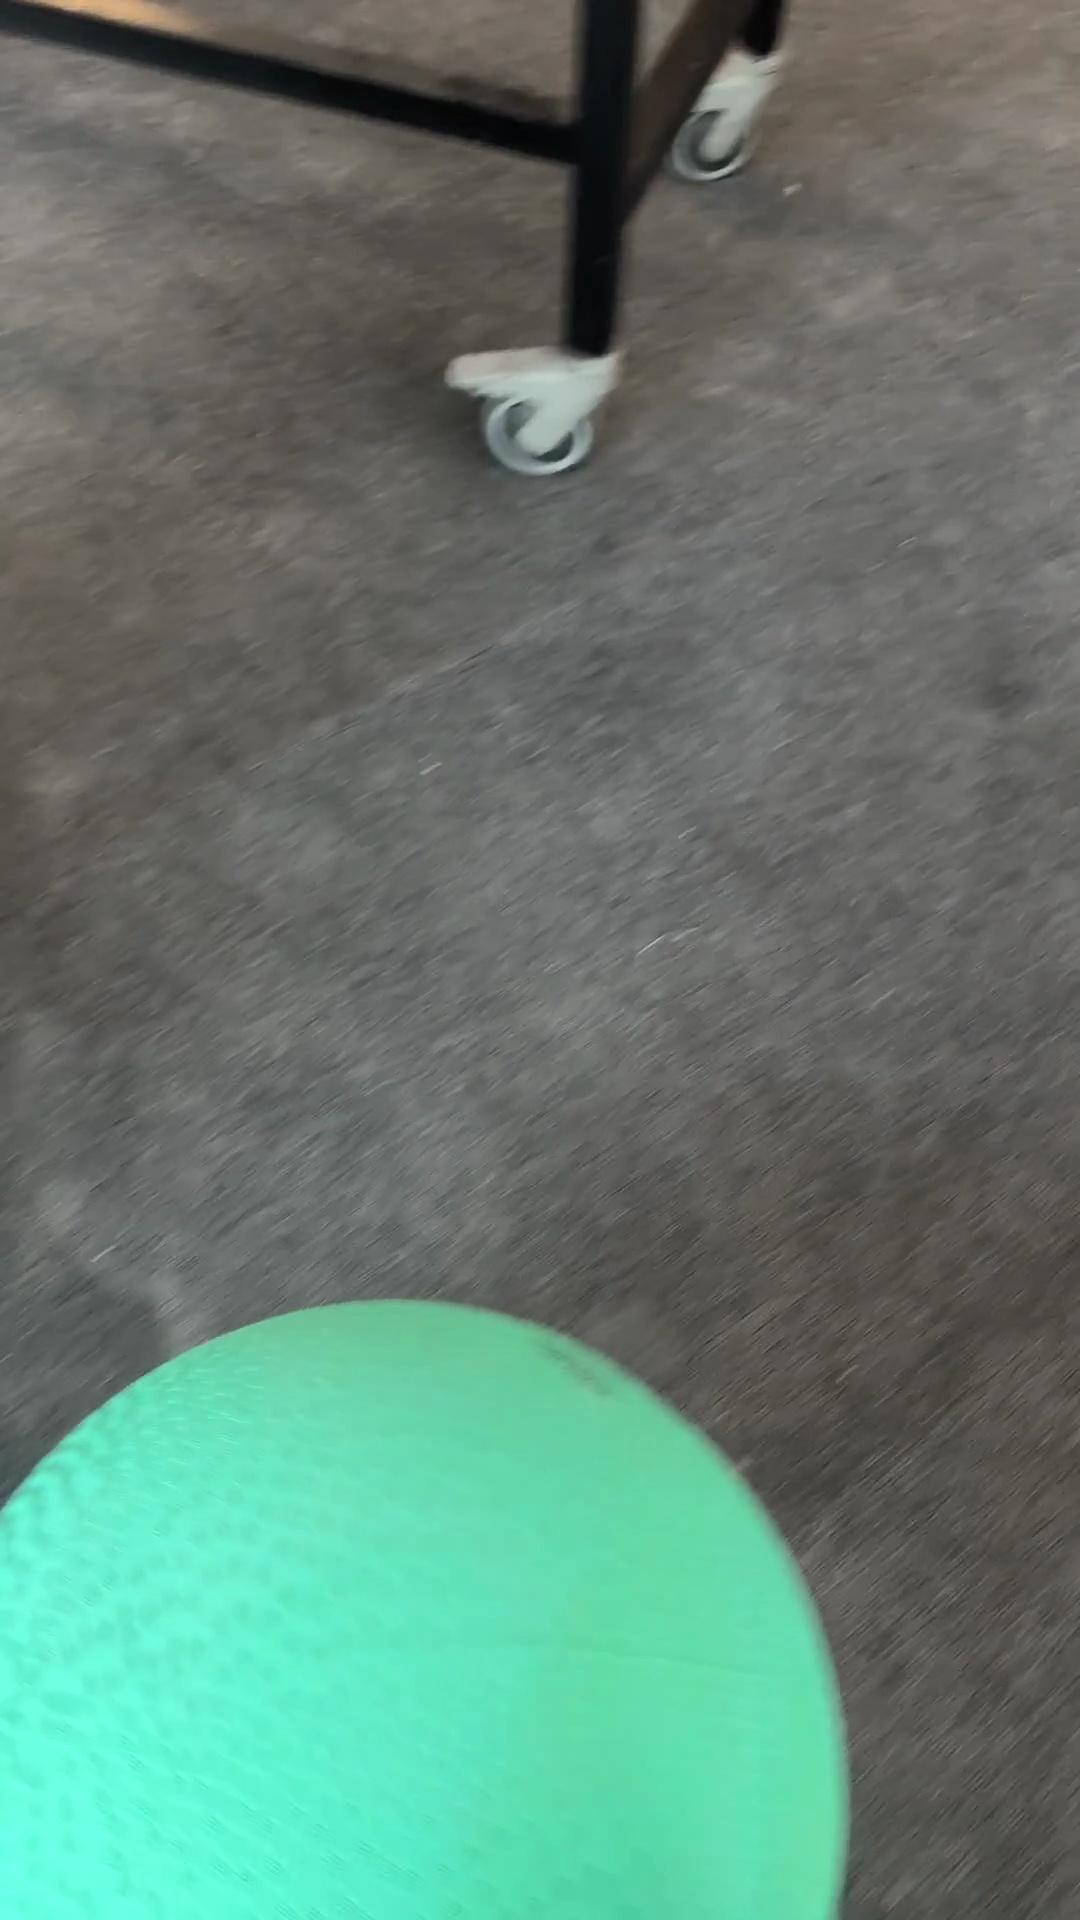ALGAE: (1, 1294, 852, 1916)
